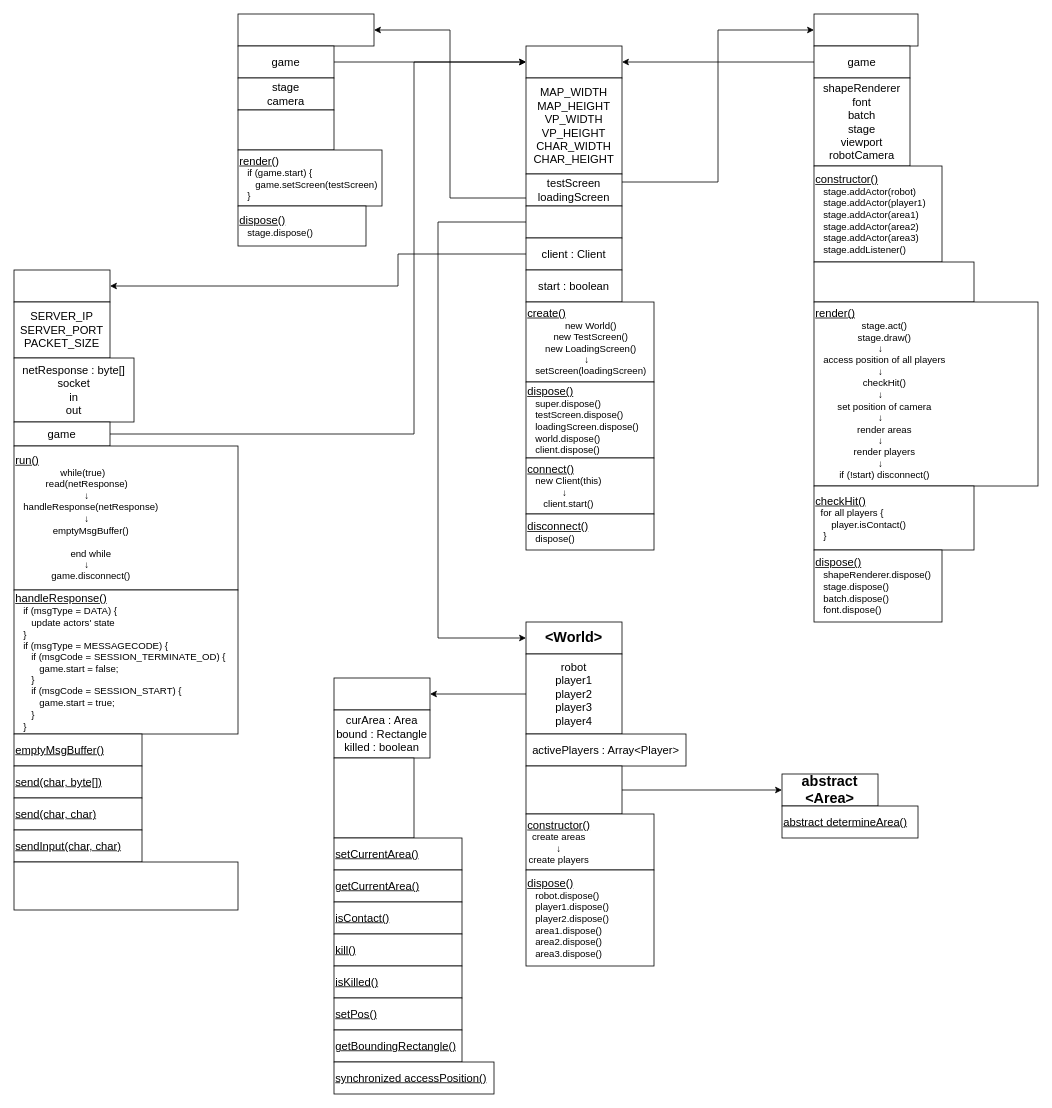
Image size: 1052x1108. Some labels were removed from this diagram. The shapes that lost their labels are listed below. From the top down, each one's centre as x and y in pixels, then its label:
the point at 305,29: <LoadingScreen>
the point at 865,29: <TestScreen>
the point at 573,61: <Prototype>
the point at 285,129: show() game.connect()
the point at 573,221: world : World
the point at 61,285: <Client>
the point at 893,281: show() Gdx.input.setInputProcessor(stage)
the point at 381,693: <Player>
the point at 373,797: constructor() setSize() ↓ new Rectangle() ↓ configure action
the point at 573,789: area1 area2 area3
the point at 125,885: dispose() send(MESSAGECODE, CLOSE_CONNECTION) socket.dispose()
